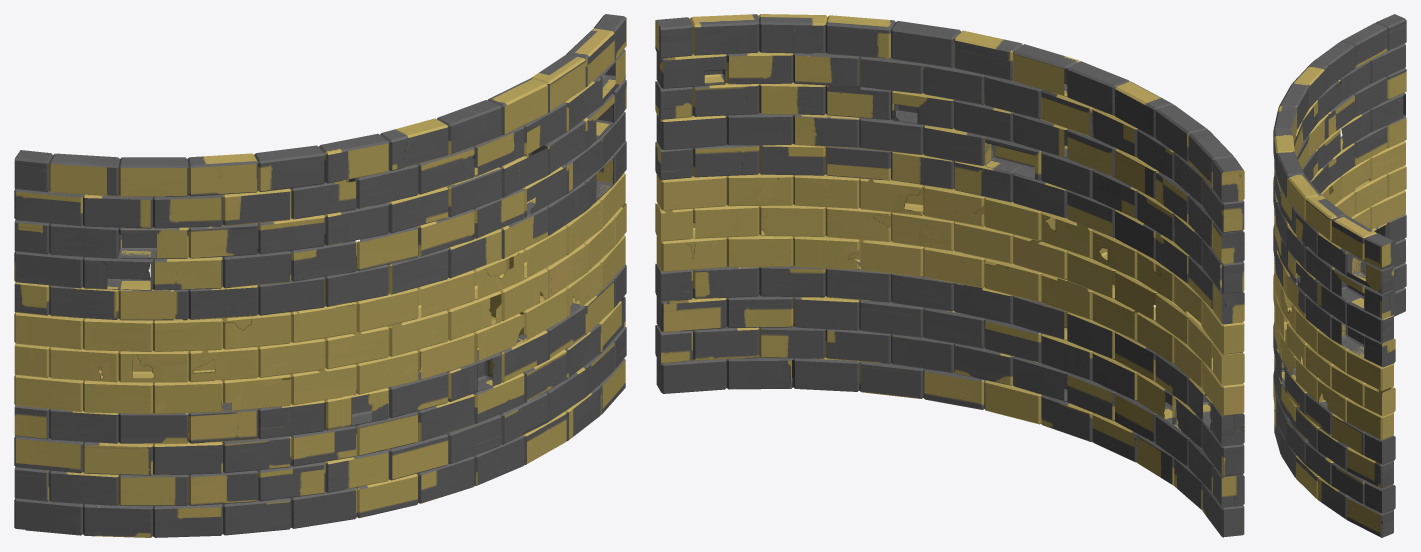
File: Round wall (1).fbx
3 views of the same model, side by side, from view 1: azimuth 30°, elevation 25°; view 2: azimuth 150°, elevation 25°; view 3: azimuth 270°, elevation 25° (orthographic). The views are drawn at different scales.
Visible parts, largest first — view 1: wall.001; view 2: wall.001; view 3: wall.001.
Part boxes in pixels (box(x1,y1,x2,y2)): wall.001: box(14, 14, 626, 537); wall.001: box(655, 14, 1244, 537); wall.001: box(1273, 14, 1406, 537).
Size of the model in its own units: 1847 by 1084 by 446.
